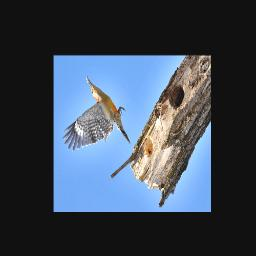Woodpecker: (62, 75, 131, 153)
